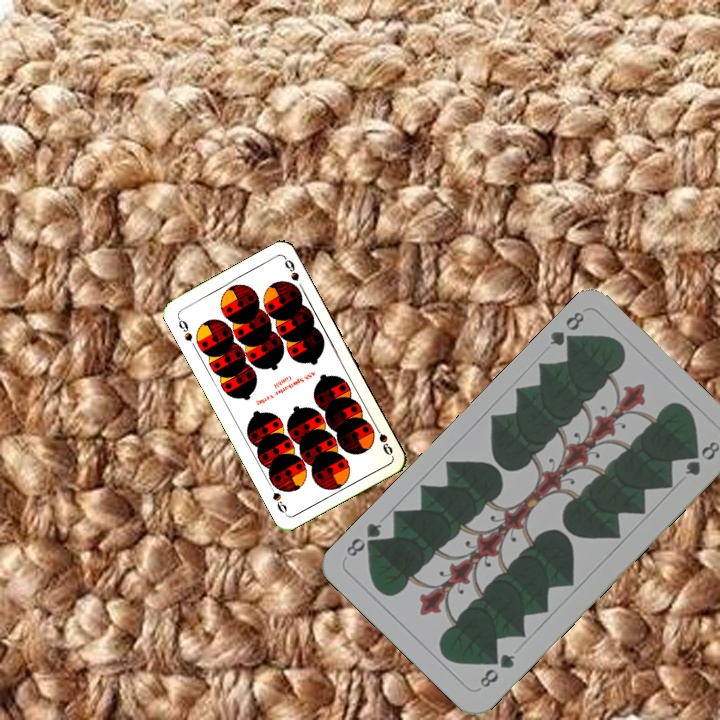G8: (545, 307, 587, 352), (475, 649, 518, 691)
S9: (370, 420, 395, 458), (173, 313, 195, 344)
